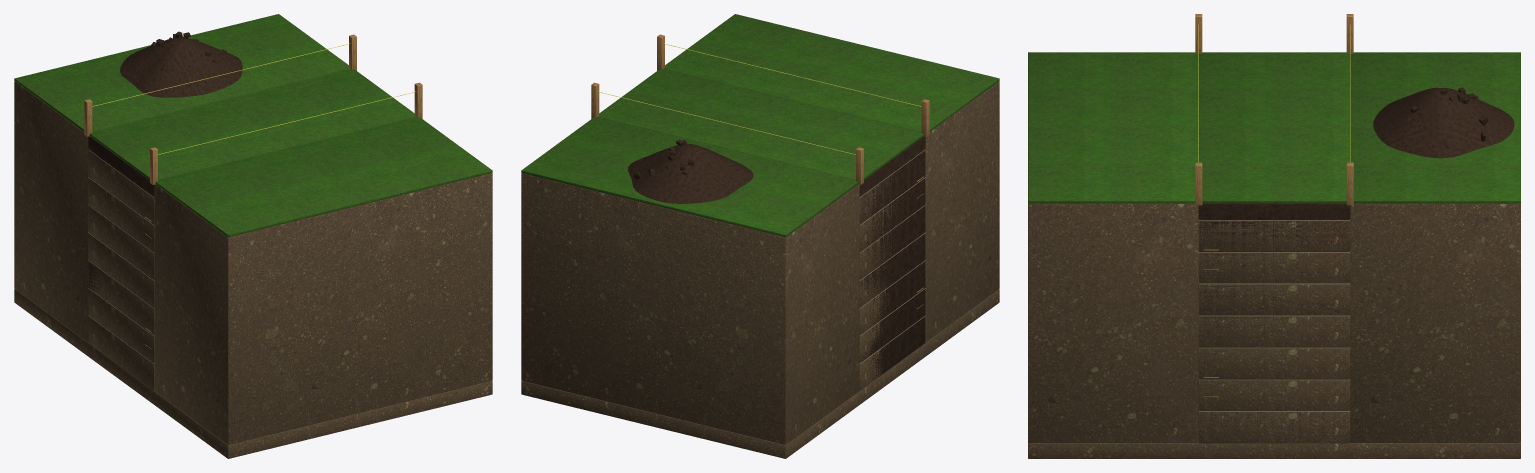
Rendered from KIT-TER-01.glb.
3 views of the same model, side by side, from view 1: azimuth 30°, elevation 25°; view 2: azimuth 150°, elevation 25°; view 3: azimuth 270°, elevation 25° (orthographic). The views are drawn at different scales.
Visible parts, largest first — view 1: KIT-TER-01_lado-1, KIT-TER-01_grama-1, KIT-TER-01_grama_final, KIT-TER-01_lado1, KIT-TER-01_grama1, KIT-TER-01_base, KIT-TER-01_p0, KIT-TER-01_camada0, KIT-TER-01_camada4, KIT-TER-01_camada6, KIT-TER-01_camada1, KIT-TER-01_camada3 (+3 smaller); view 2: KIT-TER-01_lado1, KIT-TER-01_grama-1, KIT-TER-01_grama_final, KIT-TER-01_lado-1, KIT-TER-01_grama1, KIT-TER-01_miolo, KIT-TER-01_base, KIT-TER-01_p0, KIT-TER-01_camada5, KIT-TER-01_camada4, KIT-TER-01_camada2, KIT-TER-01_camada6 (+3 smaller); view 3: KIT-TER-01_lado1, KIT-TER-01_lado-1, KIT-TER-01_grama-1, KIT-TER-01_grama_final, KIT-TER-01_grama1, KIT-TER-01_base, KIT-TER-01_miolo, KIT-TER-01_p0, KIT-TER-01_camada0, KIT-TER-01_camada2, KIT-TER-01_camada3, KIT-TER-01_camada4 (+4 smaller).
Boxes of the visible parts, x1,y1,x2,y2 form: KIT-TER-01_lado-1: [154, 173, 492, 444]; KIT-TER-01_grama-1: [155, 117, 492, 237]; KIT-TER-01_grama_final: [89, 69, 415, 179]; KIT-TER-01_lado1: [14, 81, 88, 342]; KIT-TER-01_grama1: [14, 14, 349, 131]; KIT-TER-01_base: [14, 289, 492, 458]; KIT-TER-01_p0: [120, 31, 242, 97]; KIT-TER-01_camada0: [88, 316, 154, 390]; KIT-TER-01_camada4: [88, 205, 154, 279]; KIT-TER-01_camada6: [88, 150, 154, 224]; KIT-TER-01_camada1: [88, 288, 154, 362]; KIT-TER-01_camada3: [88, 233, 154, 307]; KIT-TER-01_lado1: [521, 173, 859, 444]; KIT-TER-01_grama-1: [664, 14, 999, 131]; KIT-TER-01_grama_final: [598, 69, 924, 179]; KIT-TER-01_lado-1: [925, 81, 999, 342]; KIT-TER-01_grama1: [521, 117, 858, 237]; KIT-TER-01_miolo: [859, 136, 925, 378]; KIT-TER-01_base: [521, 289, 999, 458]; KIT-TER-01_p0: [628, 139, 753, 203]; KIT-TER-01_camada5: [859, 178, 925, 252]; KIT-TER-01_camada4: [859, 205, 925, 279]; KIT-TER-01_camada2: [859, 261, 925, 335]; KIT-TER-01_camada6: [859, 150, 925, 224]; KIT-TER-01_lado1: [1350, 203, 1520, 442]; KIT-TER-01_lado-1: [1028, 203, 1198, 442]; KIT-TER-01_grama-1: [1028, 52, 1198, 203]; KIT-TER-01_grama_final: [1199, 52, 1349, 203]; KIT-TER-01_grama1: [1350, 52, 1520, 203]; KIT-TER-01_base: [1028, 443, 1520, 458]; KIT-TER-01_miolo: [1198, 204, 1350, 442]; KIT-TER-01_p0: [1373, 87, 1514, 158]; KIT-TER-01_camada0: [1198, 412, 1350, 443]; KIT-TER-01_camada2: [1198, 348, 1350, 379]; KIT-TER-01_camada3: [1198, 316, 1350, 347]; KIT-TER-01_camada4: [1198, 284, 1350, 315].
Size of the model in its own units: 2.04 by 1.88 by 2.8.
Materials: 7 (4 with a texture image).
